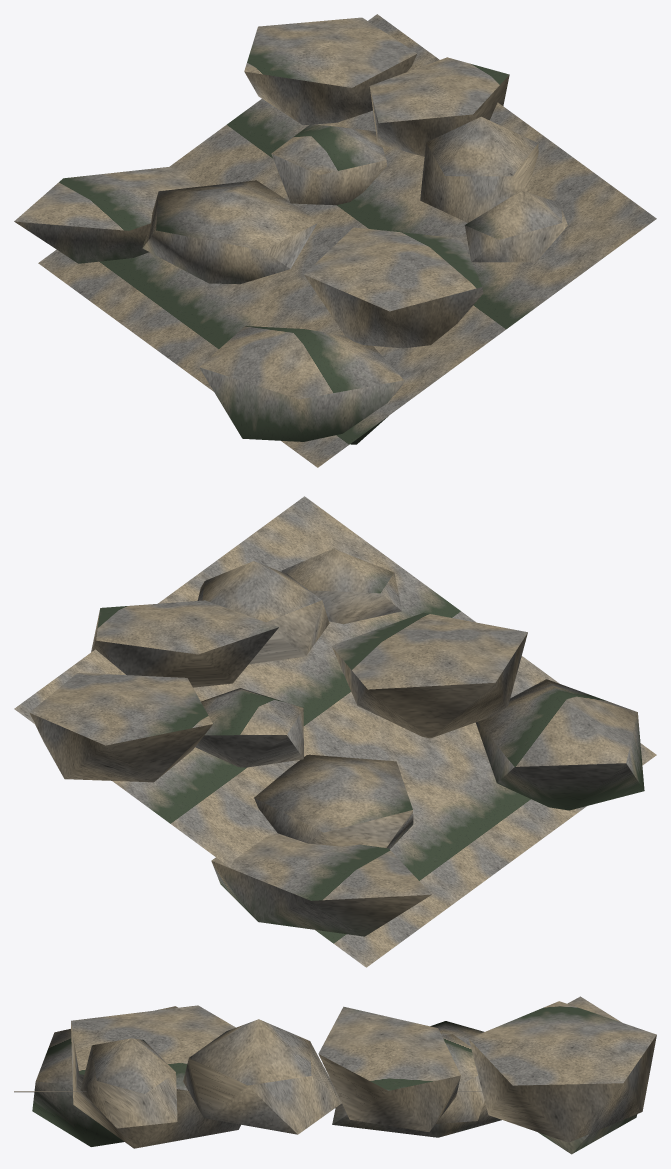
The model's file is SM_Molo_Scogliera_B_v2_LOD2.fbx.
3 renders of one model, top to bottom at view 1: azimuth 30°, elevation 25°; view 2: azimuth 150°, elevation 25°; view 3: azimuth 270°, elevation 25°, orthographic. The views are drawn at different scales.
Visible parts, largest first — view 1: SM_Molo_Scogliera_B_v2_LOD2; view 2: SM_Molo_Scogliera_B_v2_LOD2; view 3: SM_Molo_Scogliera_B_v2_LOD2.
Boxes of the visible parts, x1=… form: SM_Molo_Scogliera_B_v2_LOD2: x1=14, y1=14, x2=656, y2=467; SM_Molo_Scogliera_B_v2_LOD2: x1=14, y1=496, x2=656, y2=967; SM_Molo_Scogliera_B_v2_LOD2: x1=14, y1=996, x2=656, y2=1154.
Size of the model in its own units: 719 by 901 by 345.
Materials: 1 (1 with a texture image).
